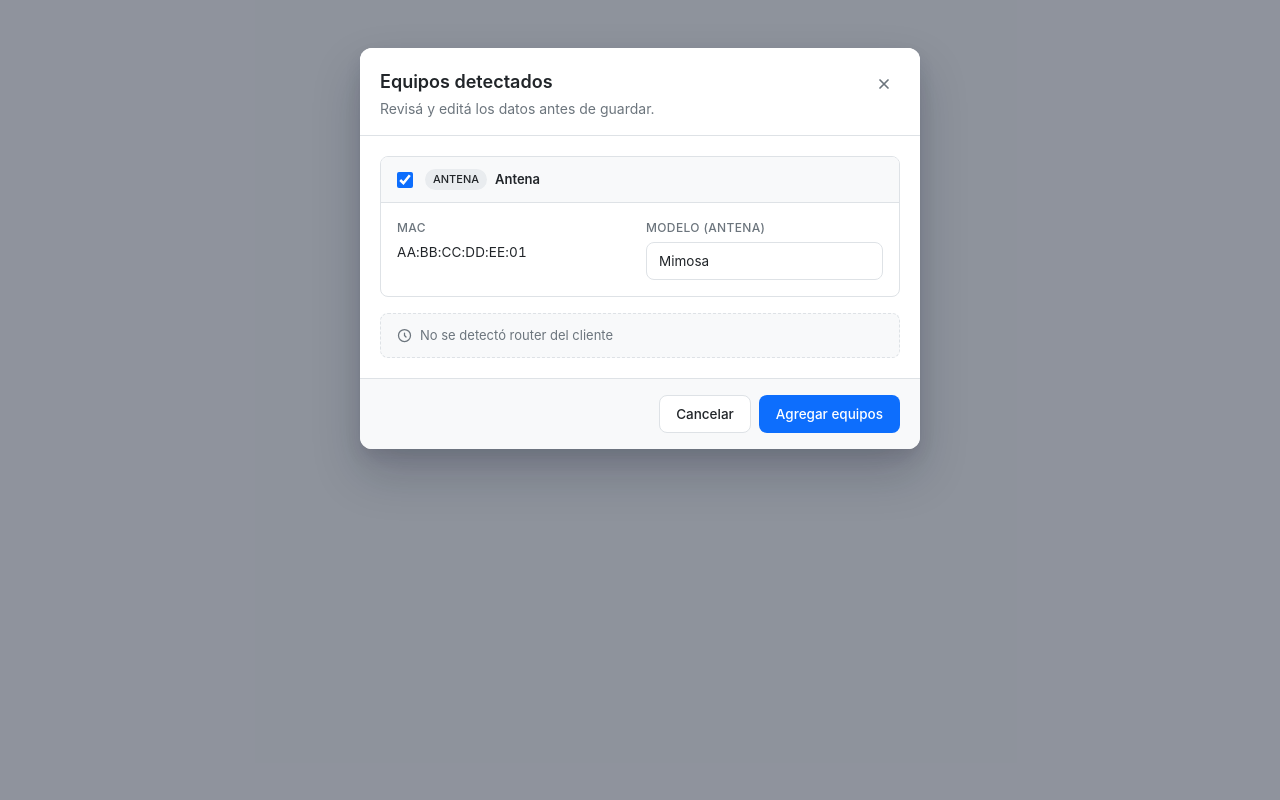
Test: AddByPppoeReviewModal › 201 created → summary says "agregado" (not enriched)
The width and height of the screenshot is (1280, 800).
Click the button "Agregar equipos" at [829, 414], box [759,395,900,433]
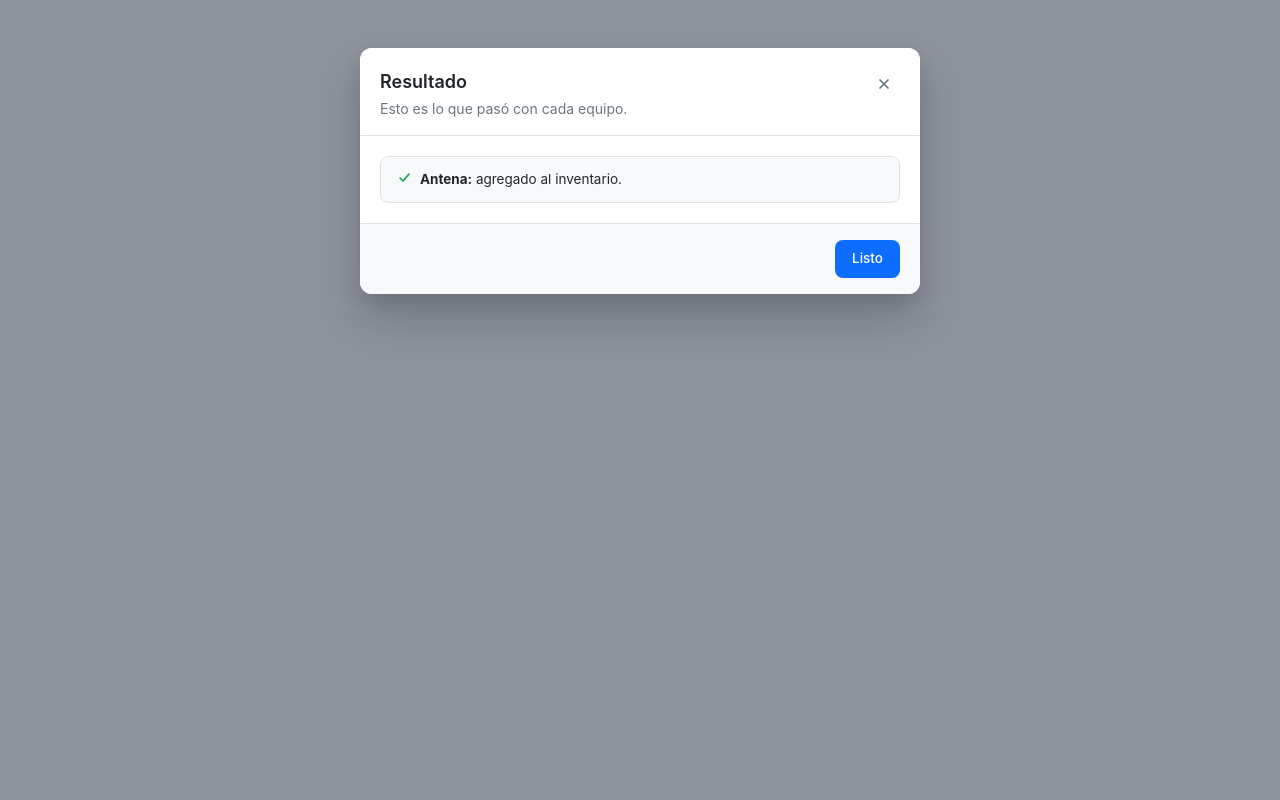
Expected: the text "Antena: agregado al inventario." is shown, [420,169,622,190]
